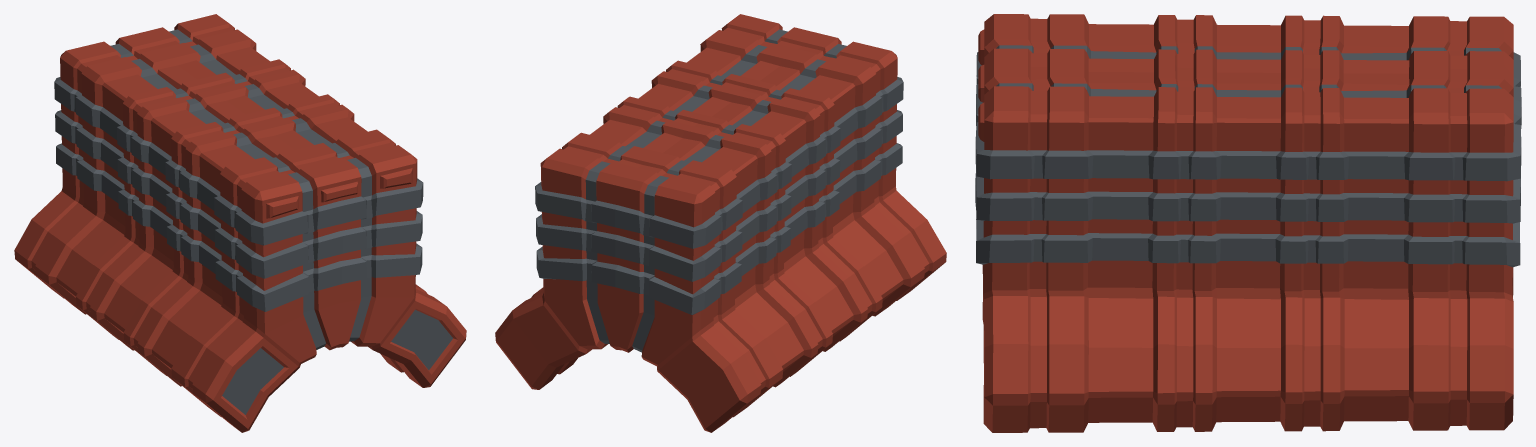
The model's file is Fighter_03_Engine_Red.fbx.
The picture shows the model from 3 angles, left to right: view 1: azimuth 30°, elevation 25°; view 2: azimuth 150°, elevation 25°; view 3: azimuth 270°, elevation 25°; orthographic projection. The views are drawn at different scales.
Visible parts, largest first — view 1: Fighter_03_Engine_Red; view 2: Fighter_03_Engine_Red; view 3: Fighter_03_Engine_Red.
Boxes of the visible parts, left/top/right/bottom form: Fighter_03_Engine_Red: left=14, top=14, right=466, bottom=432; Fighter_03_Engine_Red: left=495, top=14, right=946, bottom=432; Fighter_03_Engine_Red: left=975, top=14, right=1521, bottom=432.
Size of the model in its own units: 344 by 298 by 475.
Materials: 1 (1 with a texture image).
